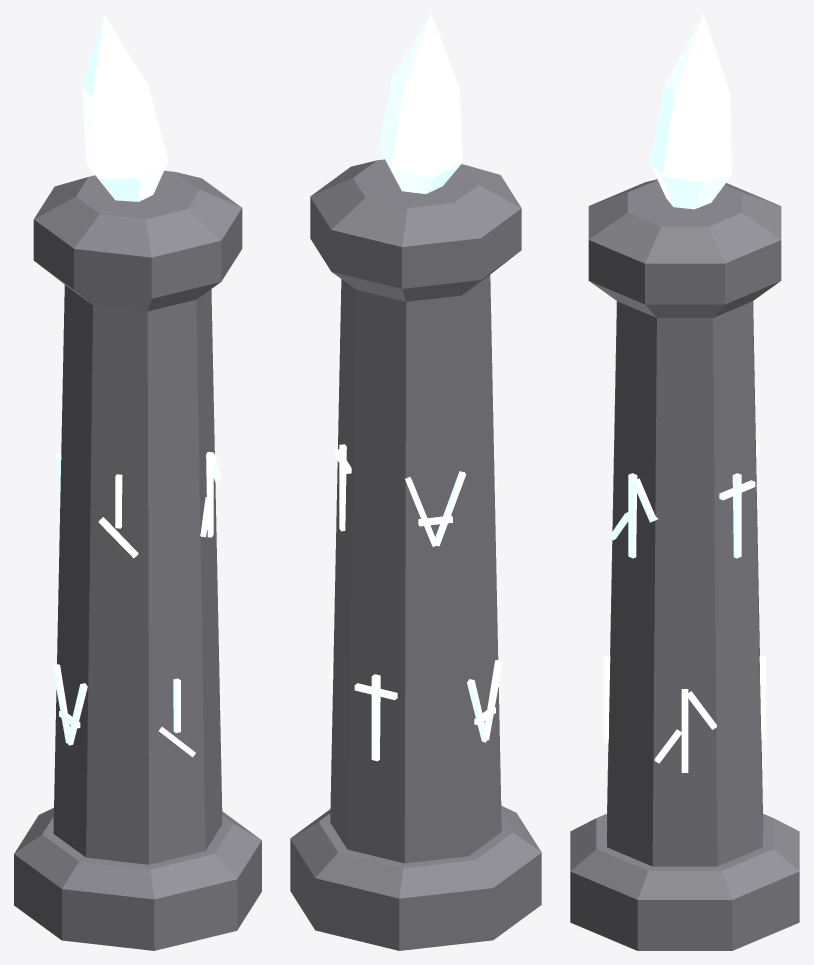
File: Pillar_Runic.glb
3 views of the same model, side by side, from view 1: azimuth 30°, elevation 25°; view 2: azimuth 150°, elevation 25°; view 3: azimuth 270°, elevation 25° (orthographic). The views are drawn at different scales.
Parts seen in each view (by area): view 1: Stone, Crystal, Runes; view 2: Stone, Crystal, Runes; view 3: Stone, Crystal, Runes.
Boxes of the visible parts, x1=… form: Stone: x1=14, y1=170, x2=261, y2=950; Crystal: x1=82, y1=14, x2=168, y2=201; Runes: x1=52, y1=452, x2=223, y2=757; Stone: x1=290, y1=159, x2=541, y2=950; Crystal: x1=378, y1=14, x2=462, y2=193; Runes: x1=328, y1=444, x2=502, y2=761; Stone: x1=570, y1=179, x2=799, y2=950; Crystal: x1=649, y1=14, x2=731, y2=209; Runes: x1=604, y1=444, x2=765, y2=772.
Bounding box in the file's own units: 4.07 × 17.16 × 4.07.
